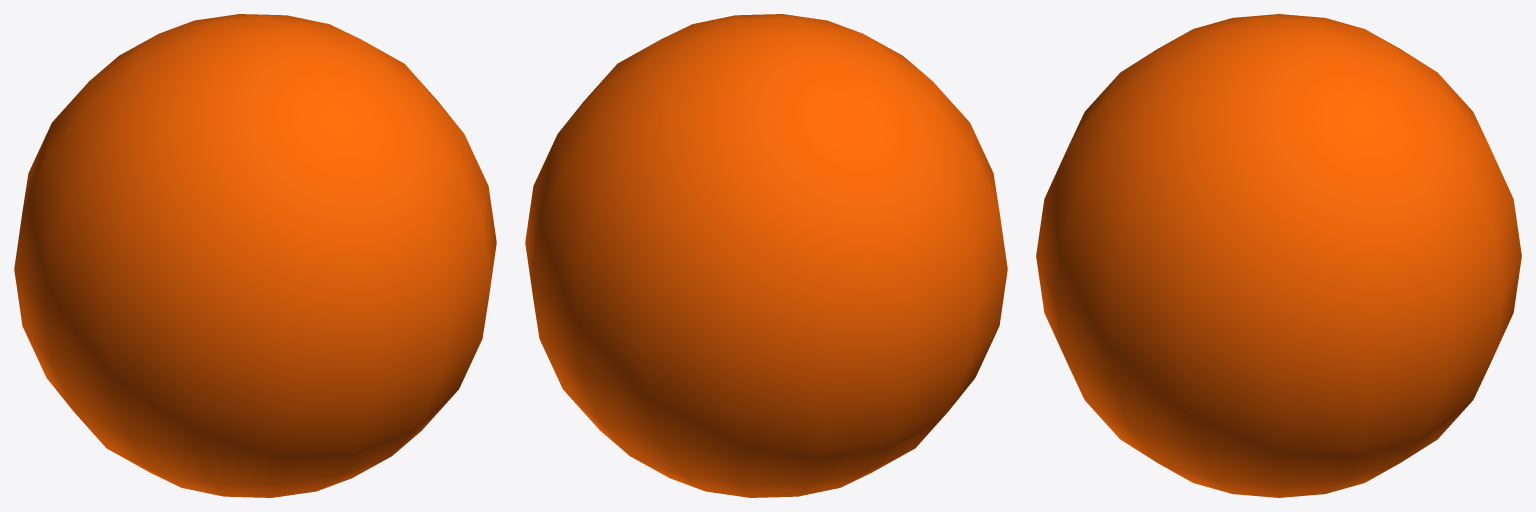
The model's file is candy_013.glb.
3 views of the same model, side by side, from view 1: azimuth 30°, elevation 25°; view 2: azimuth 150°, elevation 25°; view 3: azimuth 270°, elevation 25° (orthographic).
Parts seen in each view (by area): view 1: candy_013; view 2: candy_013; view 3: candy_013.
Part boxes in pixels (left/top/right/bottom): candy_013: left=14, top=14, right=496, bottom=497; candy_013: left=525, top=14, right=1007, bottom=497; candy_013: left=1036, top=14, right=1521, bottom=497.
Bounding box in the file's own units: 1.22 × 1.22 × 1.22.
1 material, 1 textured.
